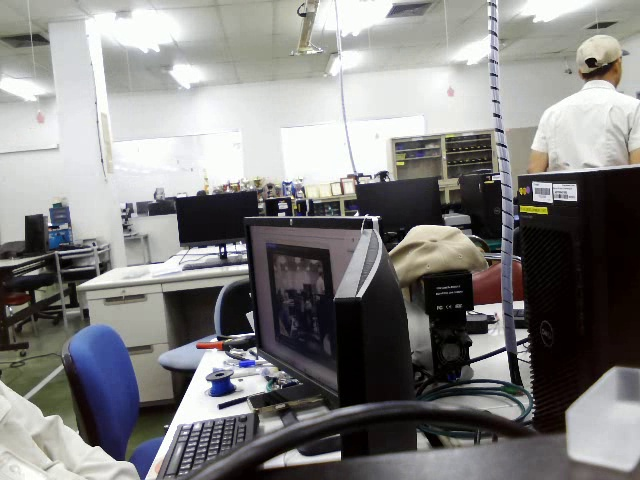aaa: (49, 315, 152, 461)
